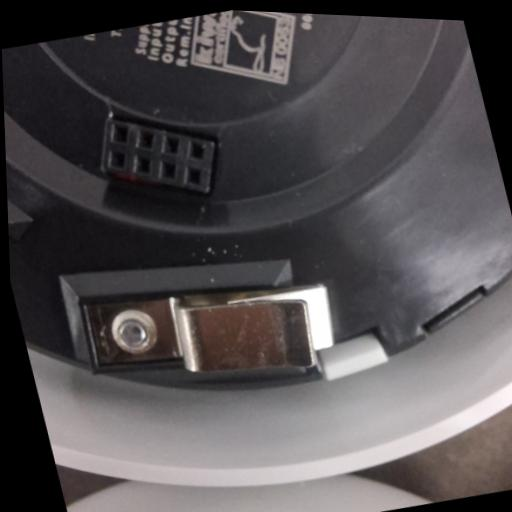yayli: (69, 246, 345, 421)
